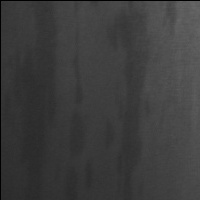inclusion: (10, 4, 58, 200), (106, 7, 150, 200), (68, 2, 96, 200), (163, 1, 182, 38)
